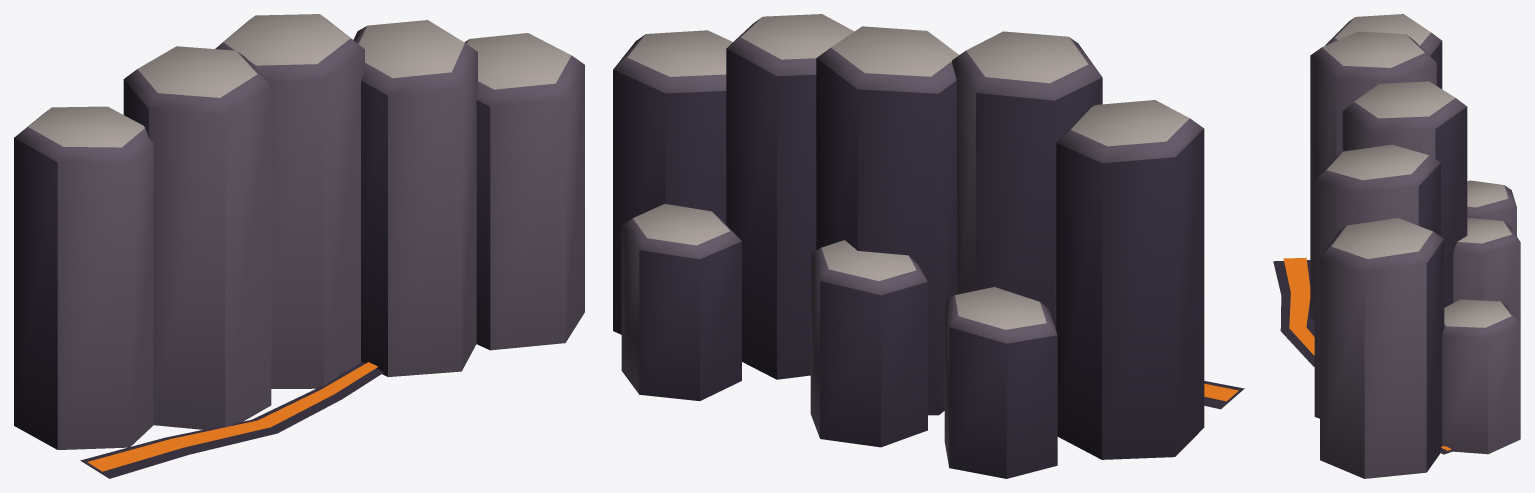
Rendered from BasaltLow.fbx.
3 renders of one model, left to right at view 1: azimuth 30°, elevation 25°; view 2: azimuth 150°, elevation 25°; view 3: azimuth 270°, elevation 25°, orthographic. The views are drawn at different scales.
Visible parts, largest first — view 1: BasaltLow; view 2: BasaltLow; view 3: BasaltLow.
Part boxes in pixels (x1,y1,x2,y2): BasaltLow: [14, 14, 584, 478]; BasaltLow: [613, 14, 1244, 478]; BasaltLow: [1273, 14, 1520, 478].
Bounding box in the file's own units: 1.59 × 0.9222 × 0.7506.
Materials: 2 (2 with a texture image).
